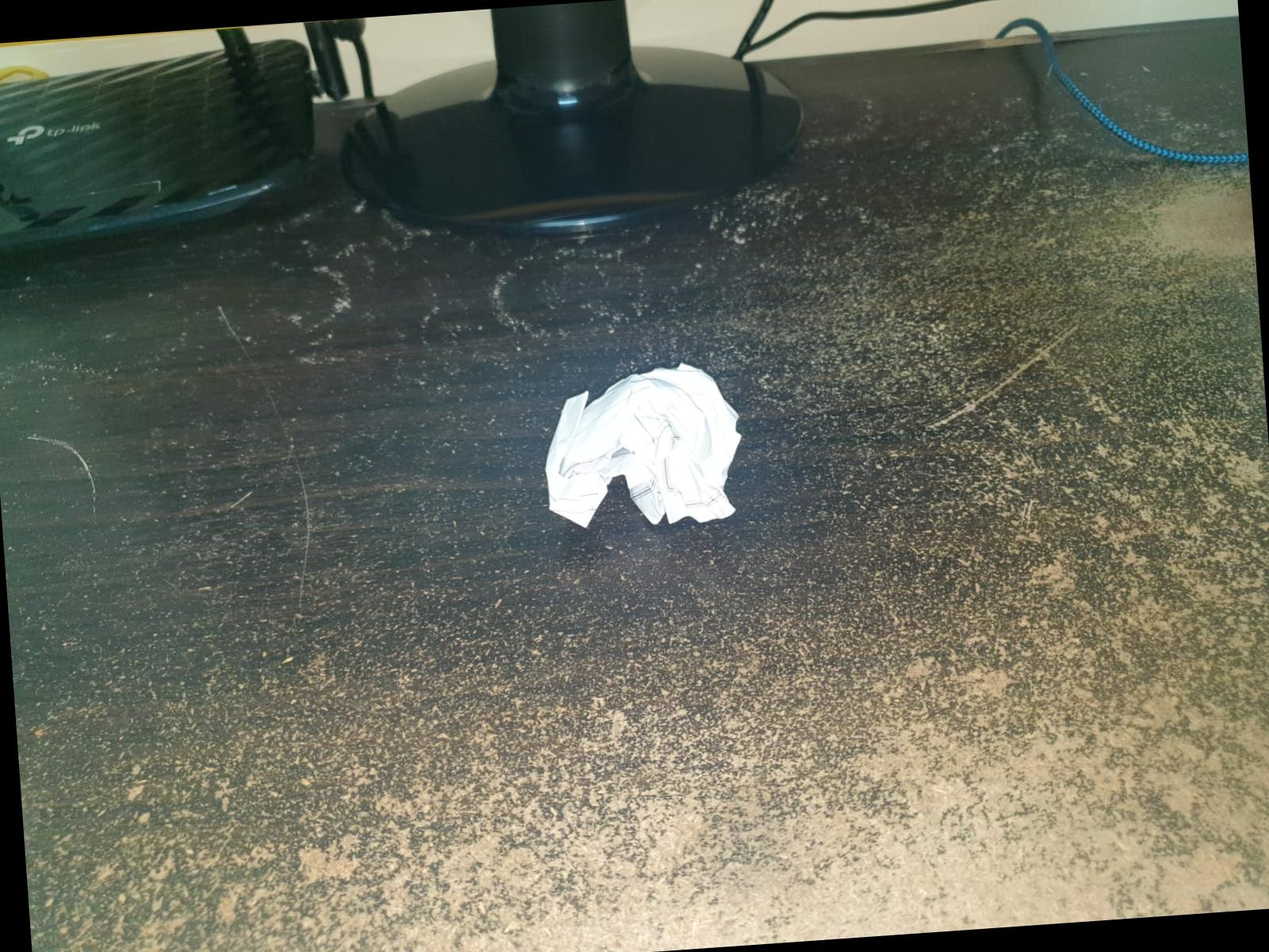Kertas: (544, 362, 742, 544)
